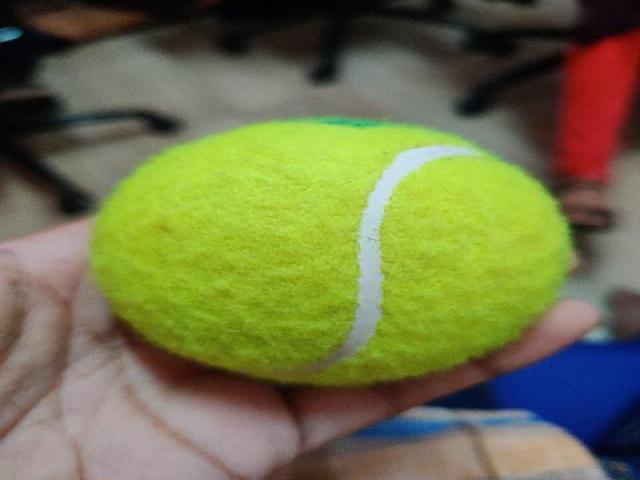tennis-ball: (93, 118, 568, 382)
